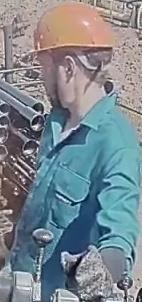gloves: (60, 245, 120, 302)
helmet: (27, 0, 116, 62)
vest: (0, 92, 141, 301)
